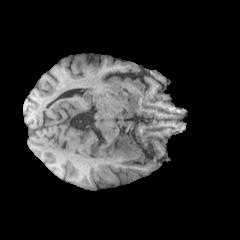glioma: (90, 138, 143, 161)
